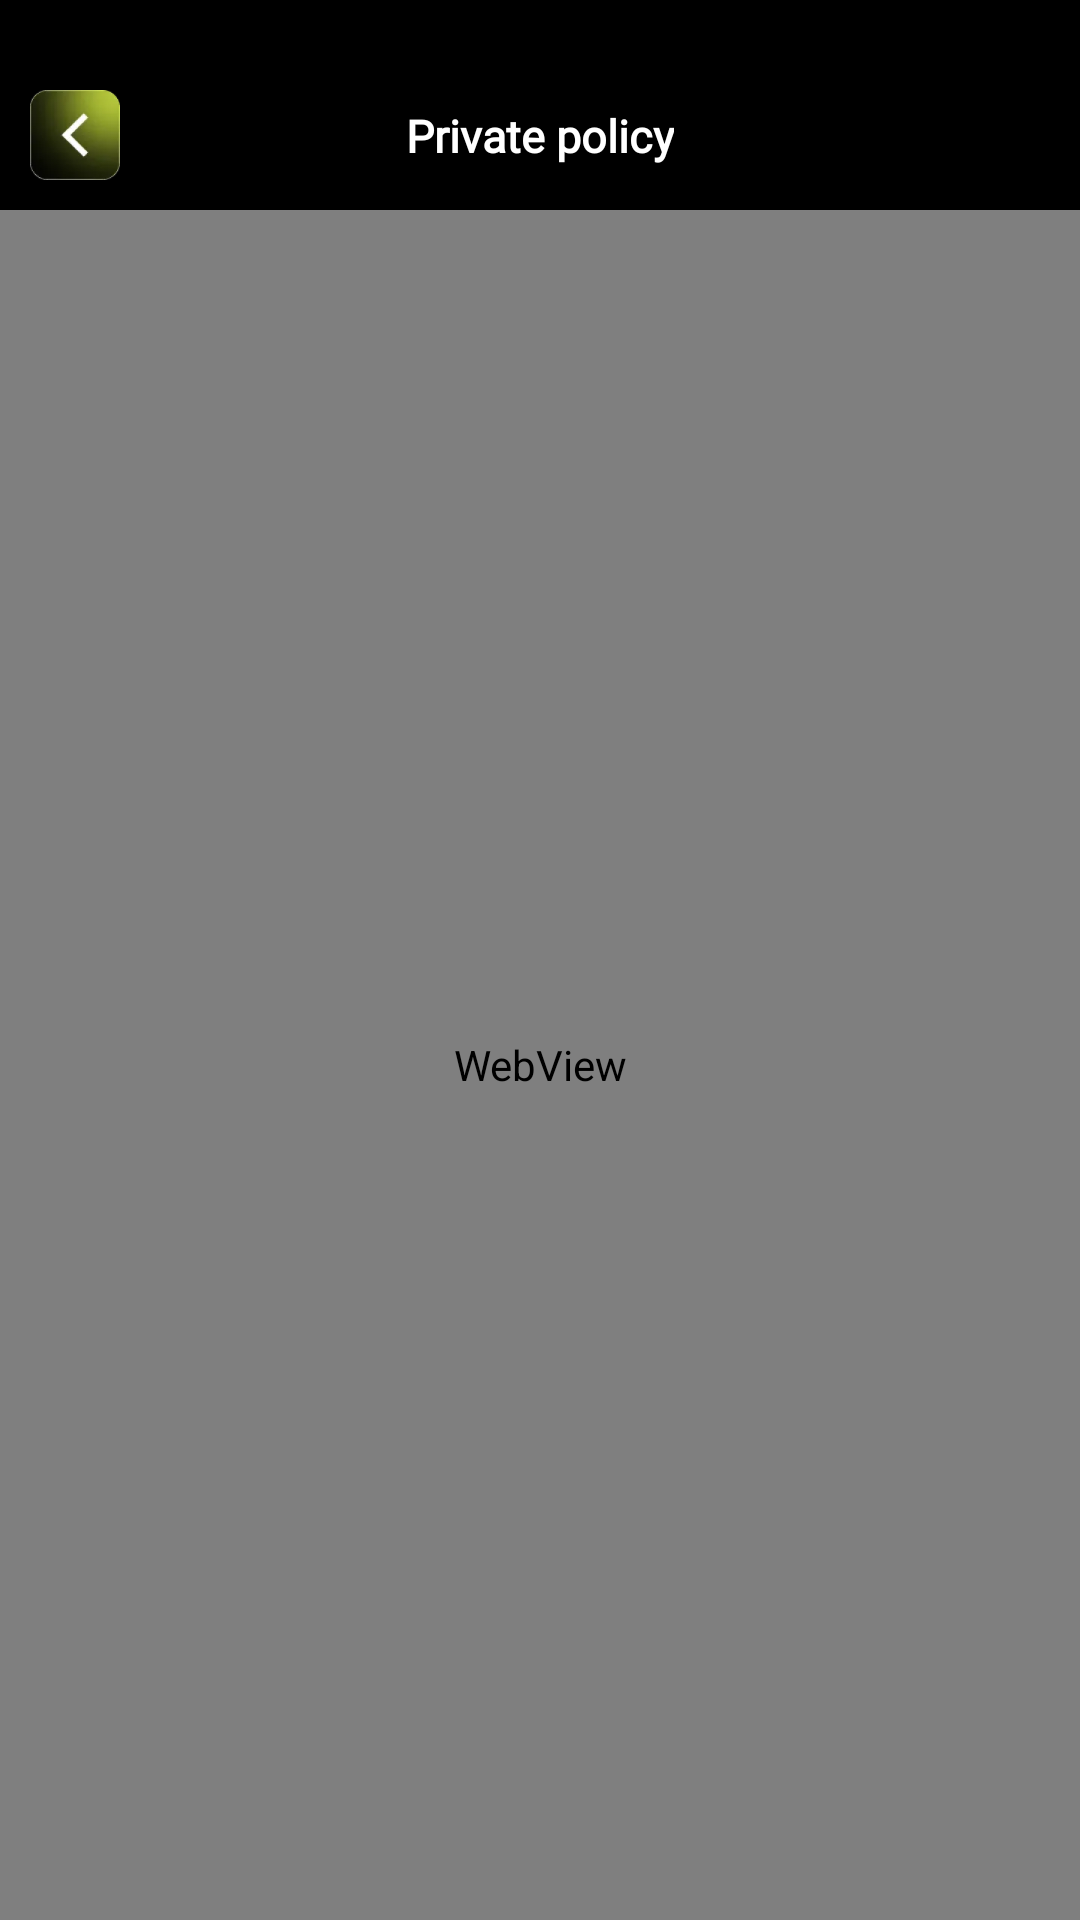

Point at icon controls on the screen. Image size 1080 × 1920, points as (x,y).
back: (75,135)
